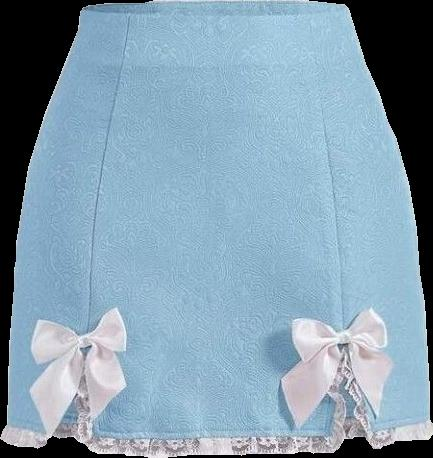Hemline: (1, 351, 431, 442)
Waistline: (78, 3, 351, 19)
